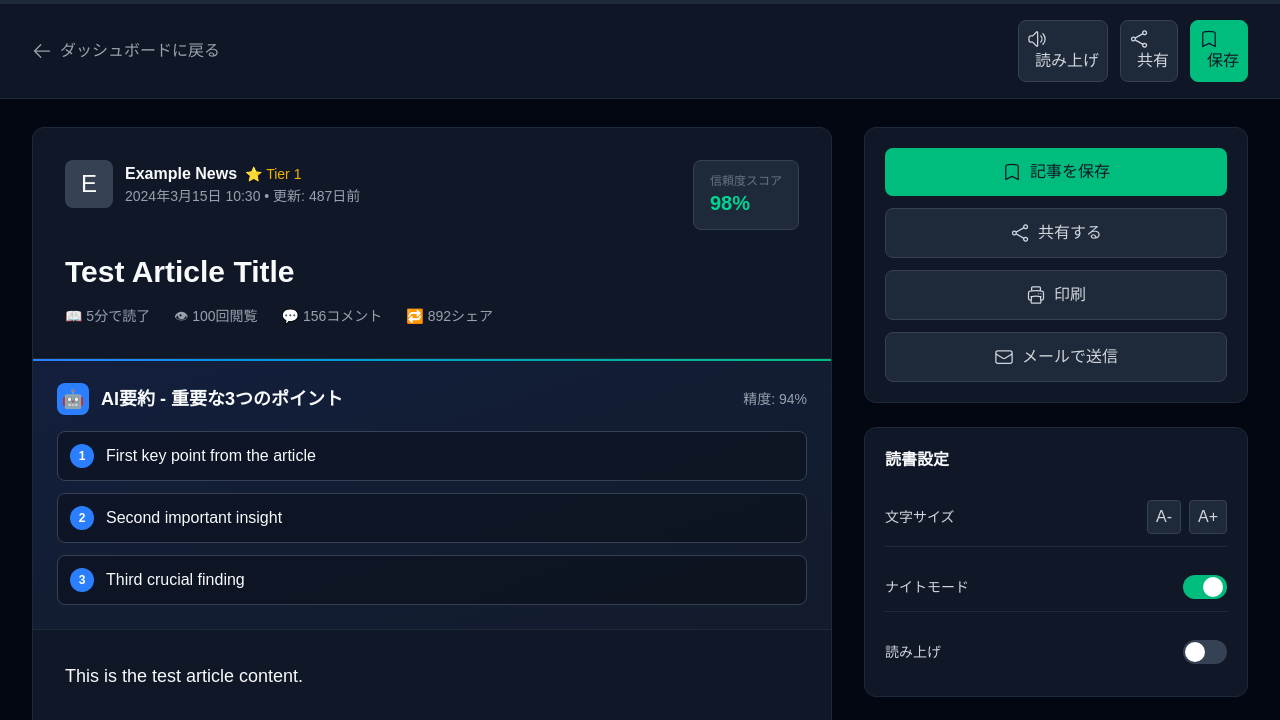
ArticleDetailPage › should handle bookmark toggle
Expected: the heading "Test Article Title" is shown, [65,255,294,288]
Click the button "保存" at x=1219, y=51, box [1190,20,1248,82]
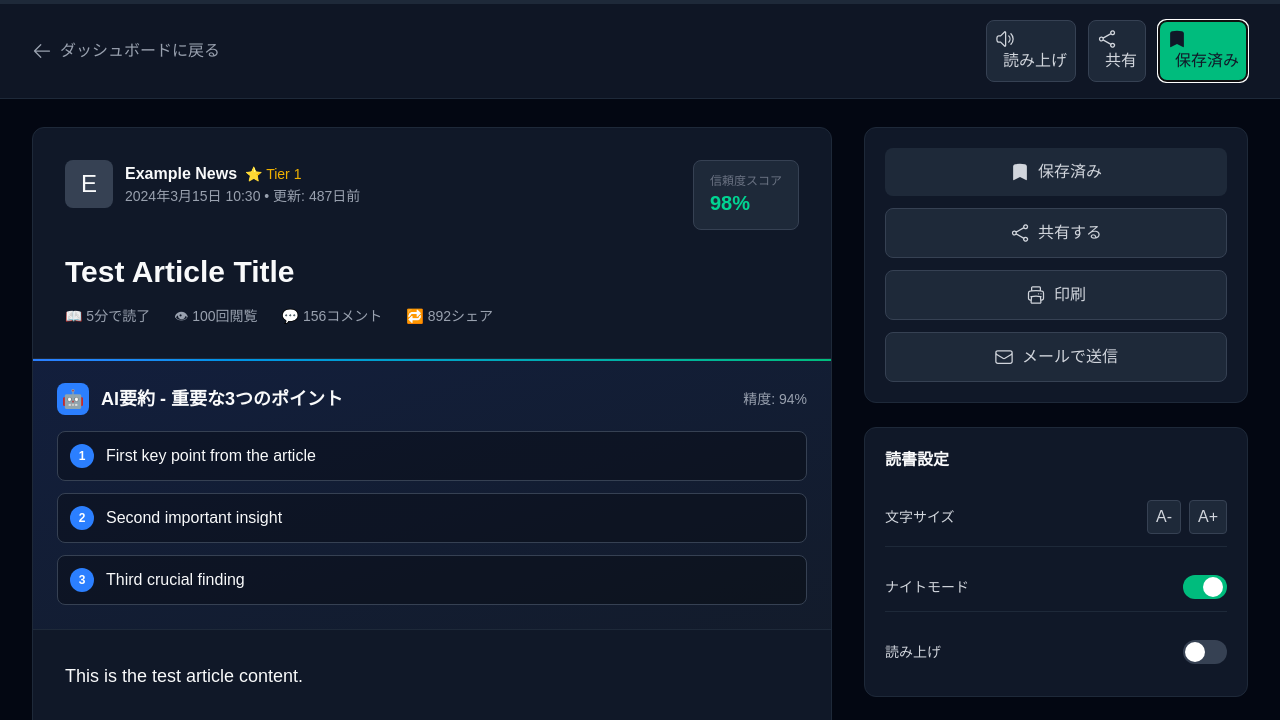
Expected: the button "保存済み" in the row of "ダッシュボードに戻る" is shown, [1158,20,1248,82]
